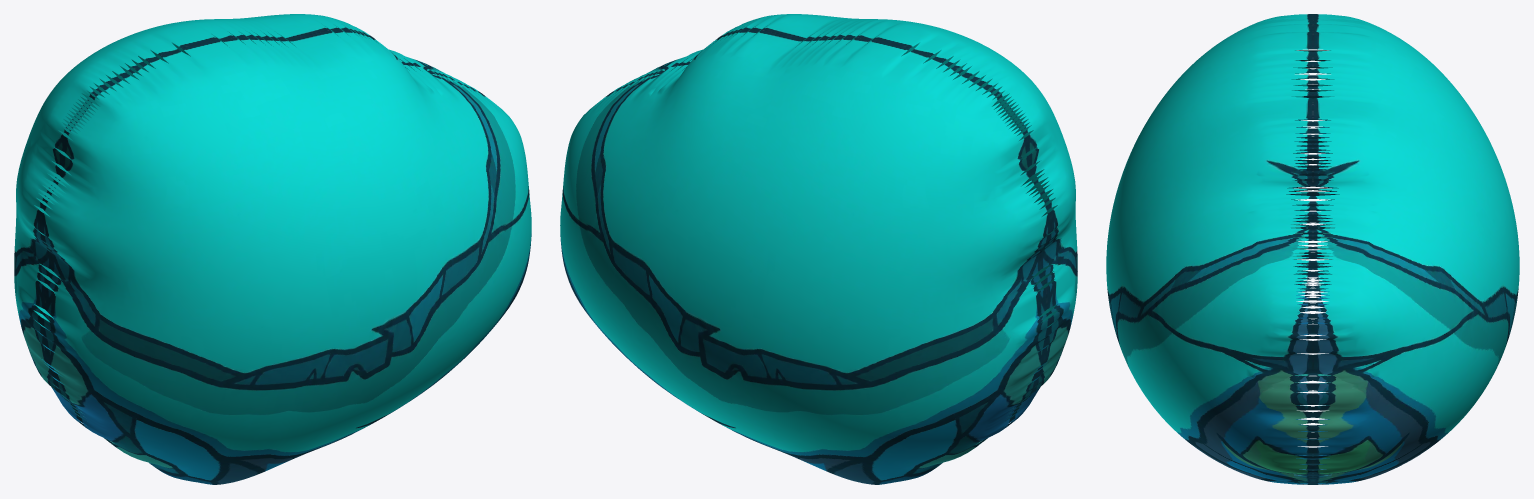
The model's file is turquoise_rock_ledge.glb.
3 views of the same model, side by side, from view 1: azimuth 30°, elevation 25°; view 2: azimuth 150°, elevation 25°; view 3: azimuth 270°, elevation 25° (orthographic). The views are drawn at different scales.
Visible parts, largest first — view 1: turquoise_rock_ledge; view 2: turquoise_rock_ledge; view 3: turquoise_rock_ledge.
Part boxes in pixels (x1,y1,x2,y2): turquoise_rock_ledge: [14, 14, 531, 484]; turquoise_rock_ledge: [560, 14, 1077, 484]; turquoise_rock_ledge: [1106, 14, 1519, 484].
Size of the model in its own units: 0.9889 by 0.8669 by 0.7876.
Materials: 1 (1 with a texture image).
